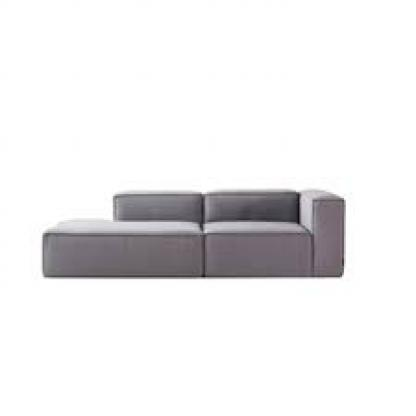sofa: (37, 185, 355, 286)
